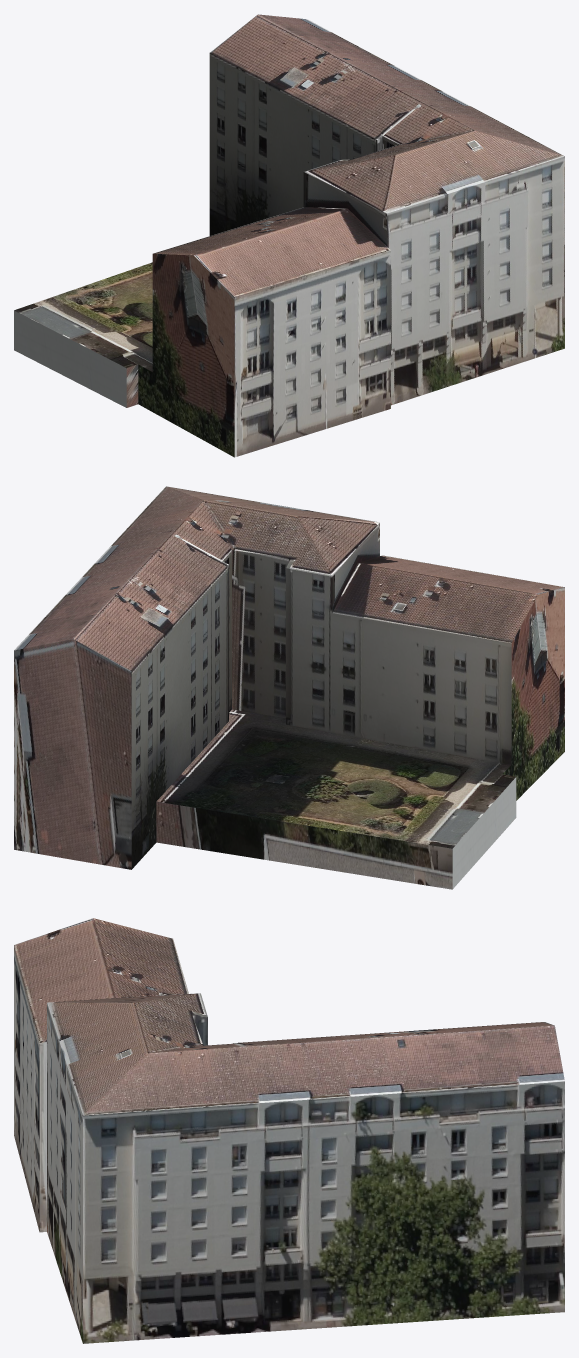
3 renders of one model, top to bottom at view 1: azimuth 30°, elevation 25°; view 2: azimuth 150°, elevation 25°; view 3: azimuth 270°, elevation 25°, orthographic. The views are drawn at different scales.
Parts seen in each view (by area): view 1: Z_UP; view 2: Z_UP; view 3: Z_UP.
Boxes of the visible parts, x1=… form: Z_UP: x1=14, y1=14, x2=564, y2=457; Z_UP: x1=14, y1=486, x2=564, y2=889; Z_UP: x1=14, y1=918, x2=564, y2=1343.
Bounding box in the file's own units: 45.24 × 22.41 × 43.81.
Materials: 2 (1 with a texture image).
